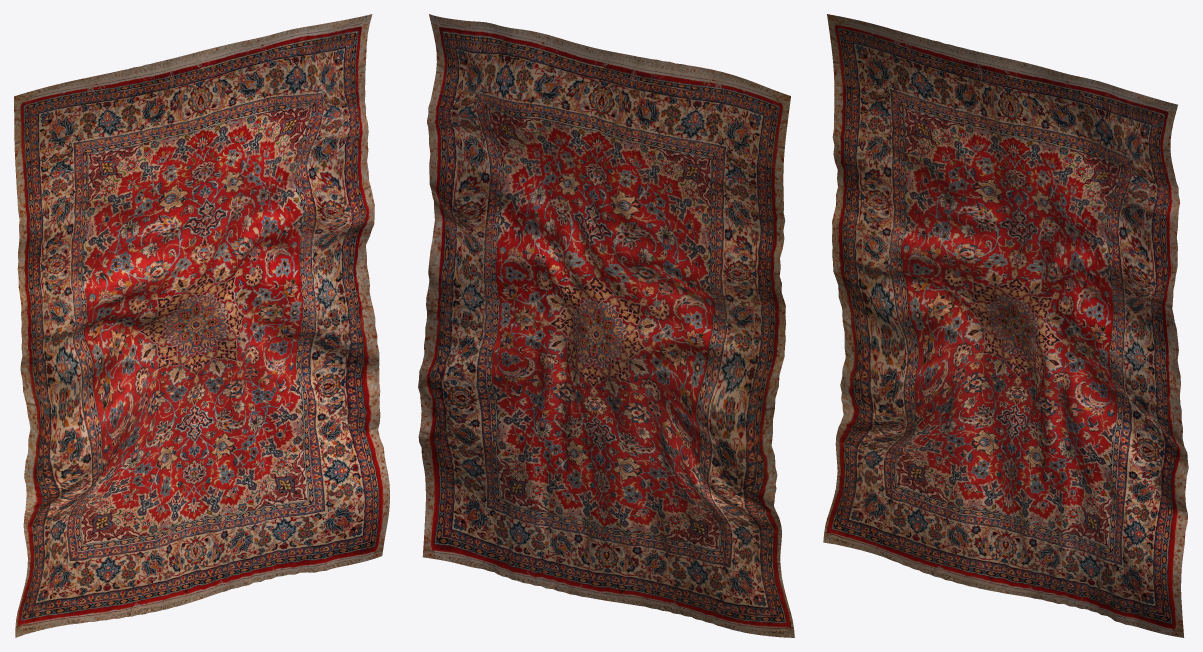
File: Carpet1.fbx
3 renders of one model, left to right at view 1: azimuth 30°, elevation 25°; view 2: azimuth 150°, elevation 25°; view 3: azimuth 330°, elevation 25°, orthographic. The views are drawn at different scales.
Parts seen in each view (by area): view 1: Plane.010; view 2: Plane.010; view 3: Plane.010.
Part boxes in pixels (x1,y1,x2,y2): Plane.010: (14,14,389,637); Plane.010: (418,14,794,637); Plane.010: (823,14,1188,637).
Bounding box in the file's own units: 1.5 × 2.14 × 0.1317.
